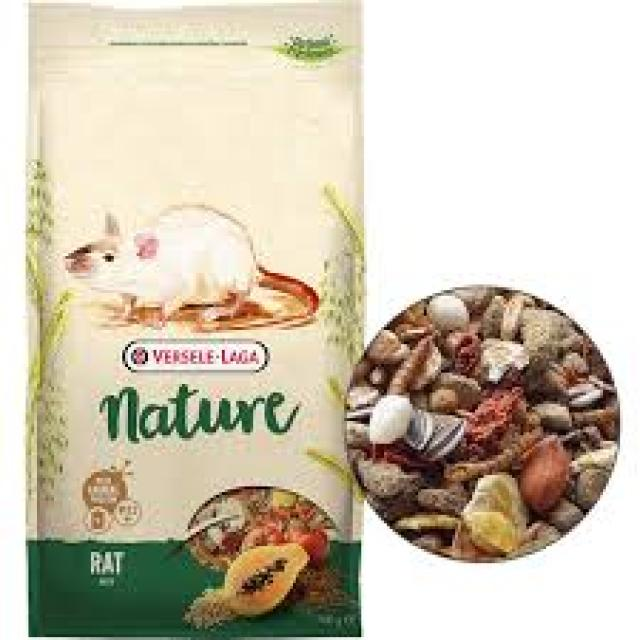rat: (60, 199, 267, 324)
